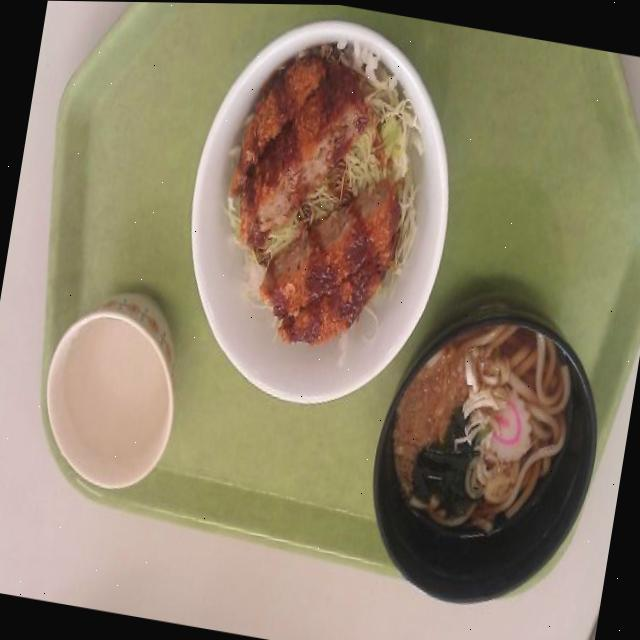面条主食: (354, 264, 631, 614)
